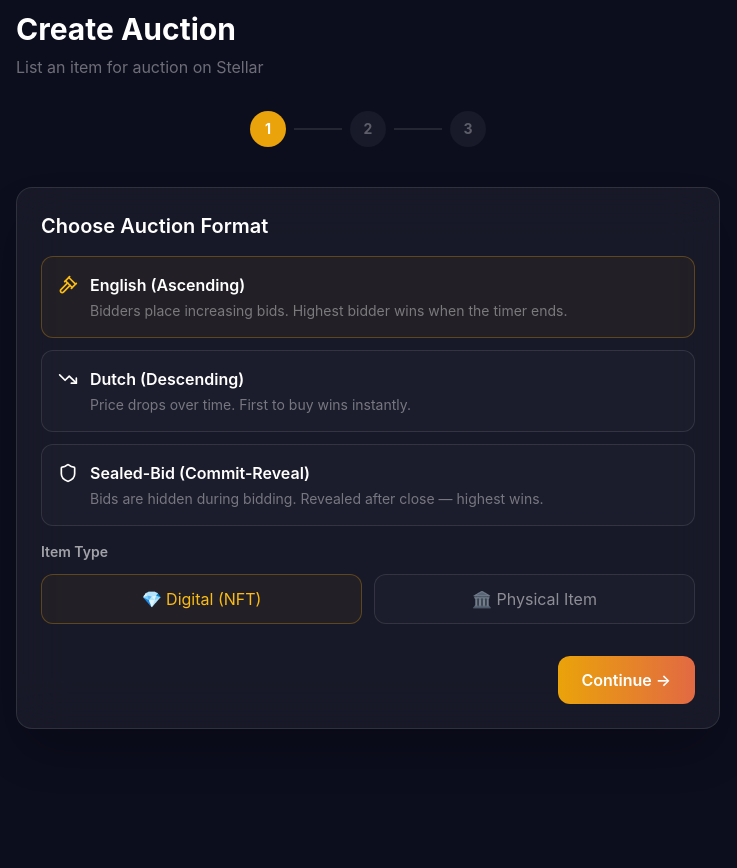
CreateAuctionPage › step 2 shows sealed-bid commit duration when sealed_bid selected
This screenshot has width=737, height=868.
Click the text "Sealed-Bid (Commit-Reveal)" at (200, 473), box 90,463 -> 310,483
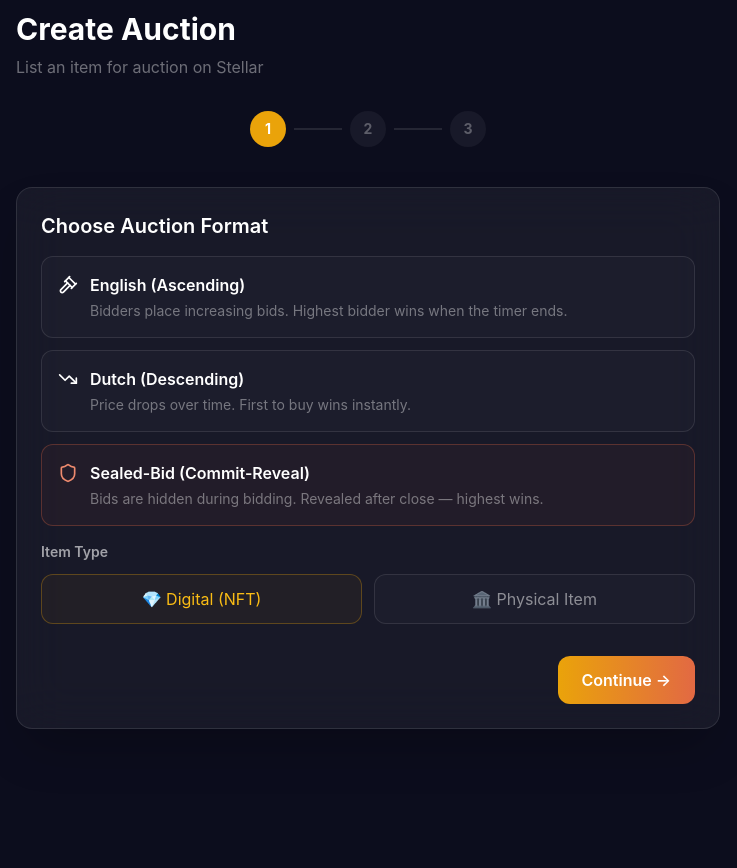
Click the button "Continue →" at (626, 680), box 558,656 -> 695,704
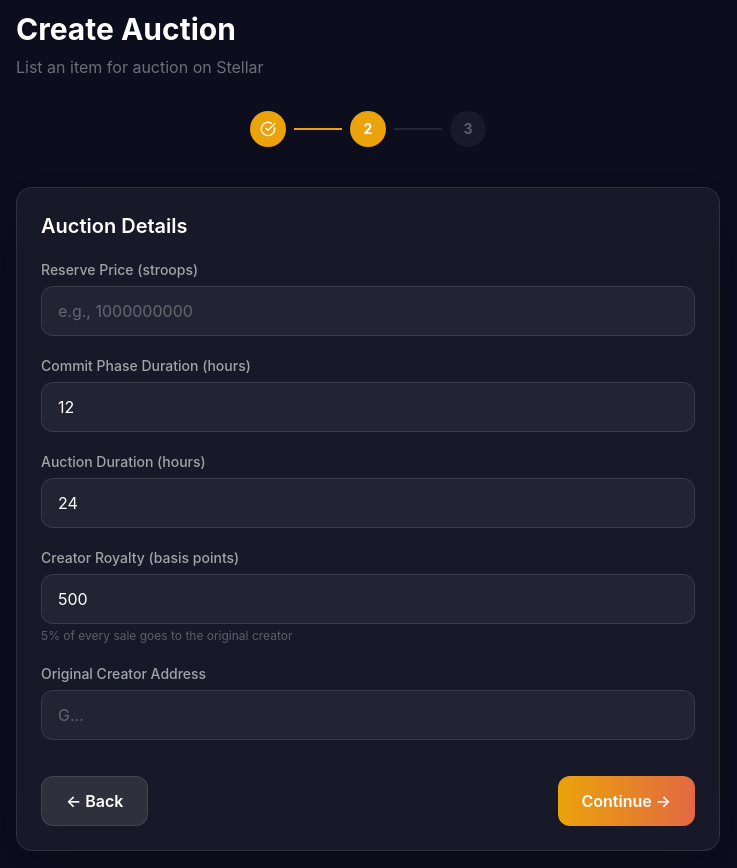
Expected: the text "Commit Phase Duration (hours)" is shown, 41,357 -> 251,374
